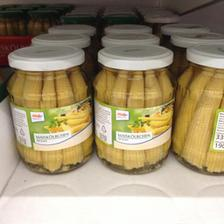Mais: (3, 42, 93, 174), (92, 42, 176, 174), (173, 41, 223, 173)
